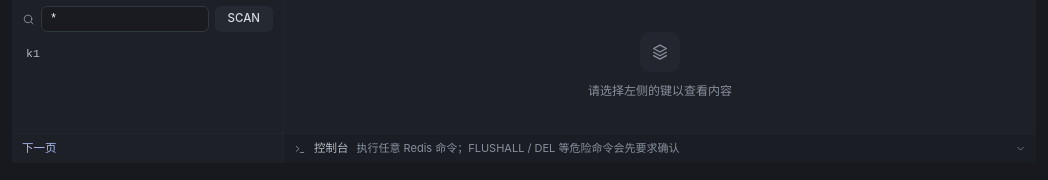
Test: DbPanel Redis states › a fresh SCAN clears the pagination error after a failed next page
Click the button "下一页" at (39, 148), box x1=12 y1=133 x2=283 y2=163
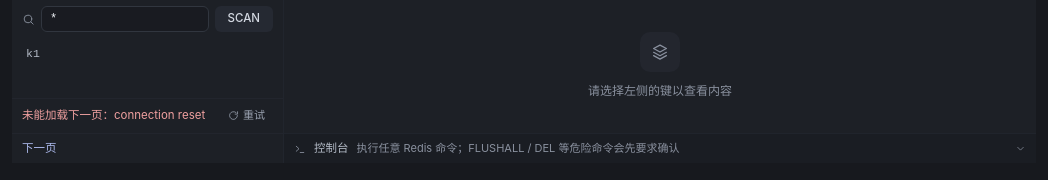
Click the button "SCAN" at (244, 19), box x1=214 y1=6 x2=273 y2=32
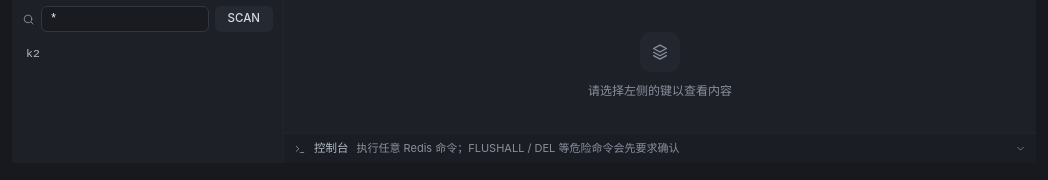
Check: the text "k2" is shown, box x1=26 y1=47 x2=40 y2=60
